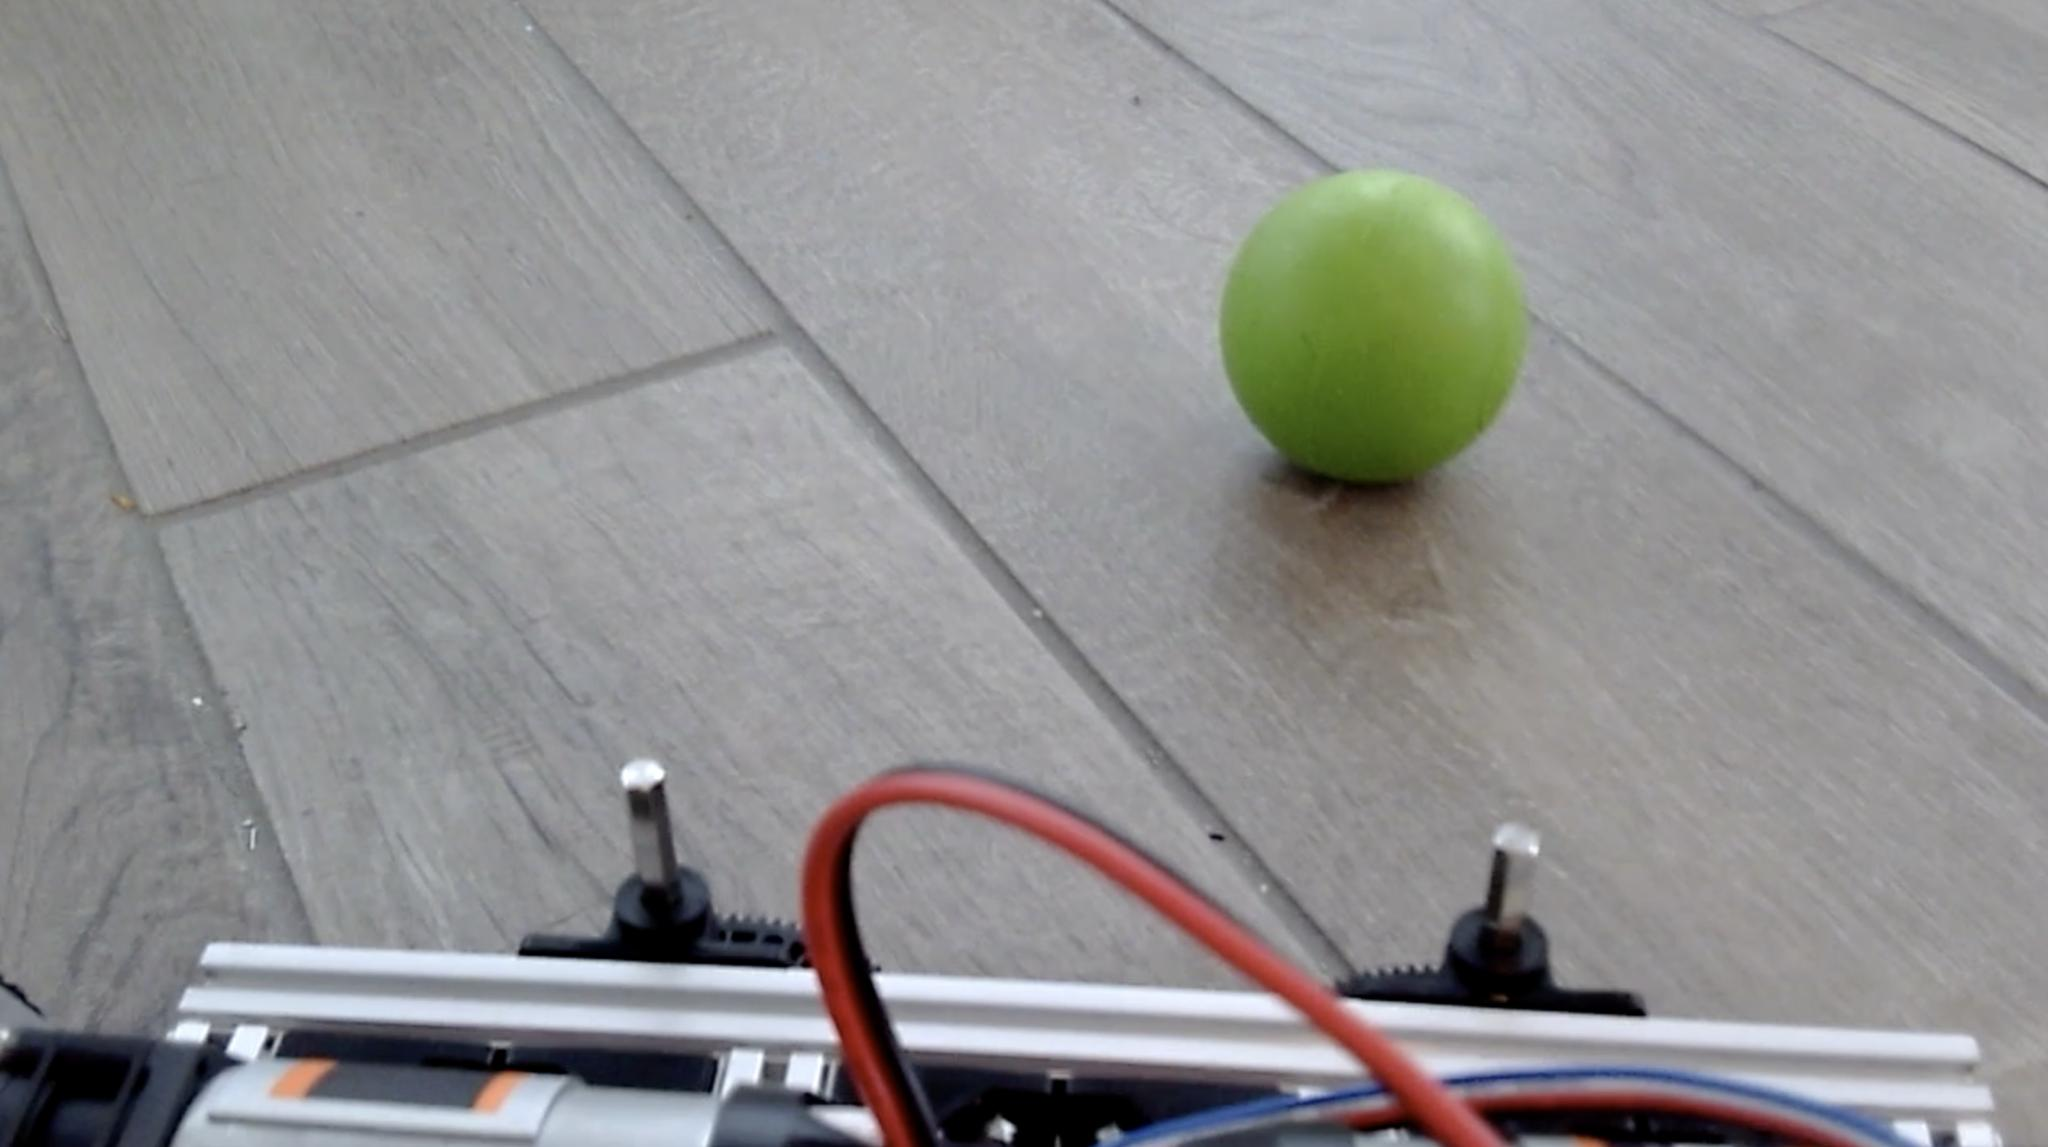greenball: (1215, 163, 1529, 487)
